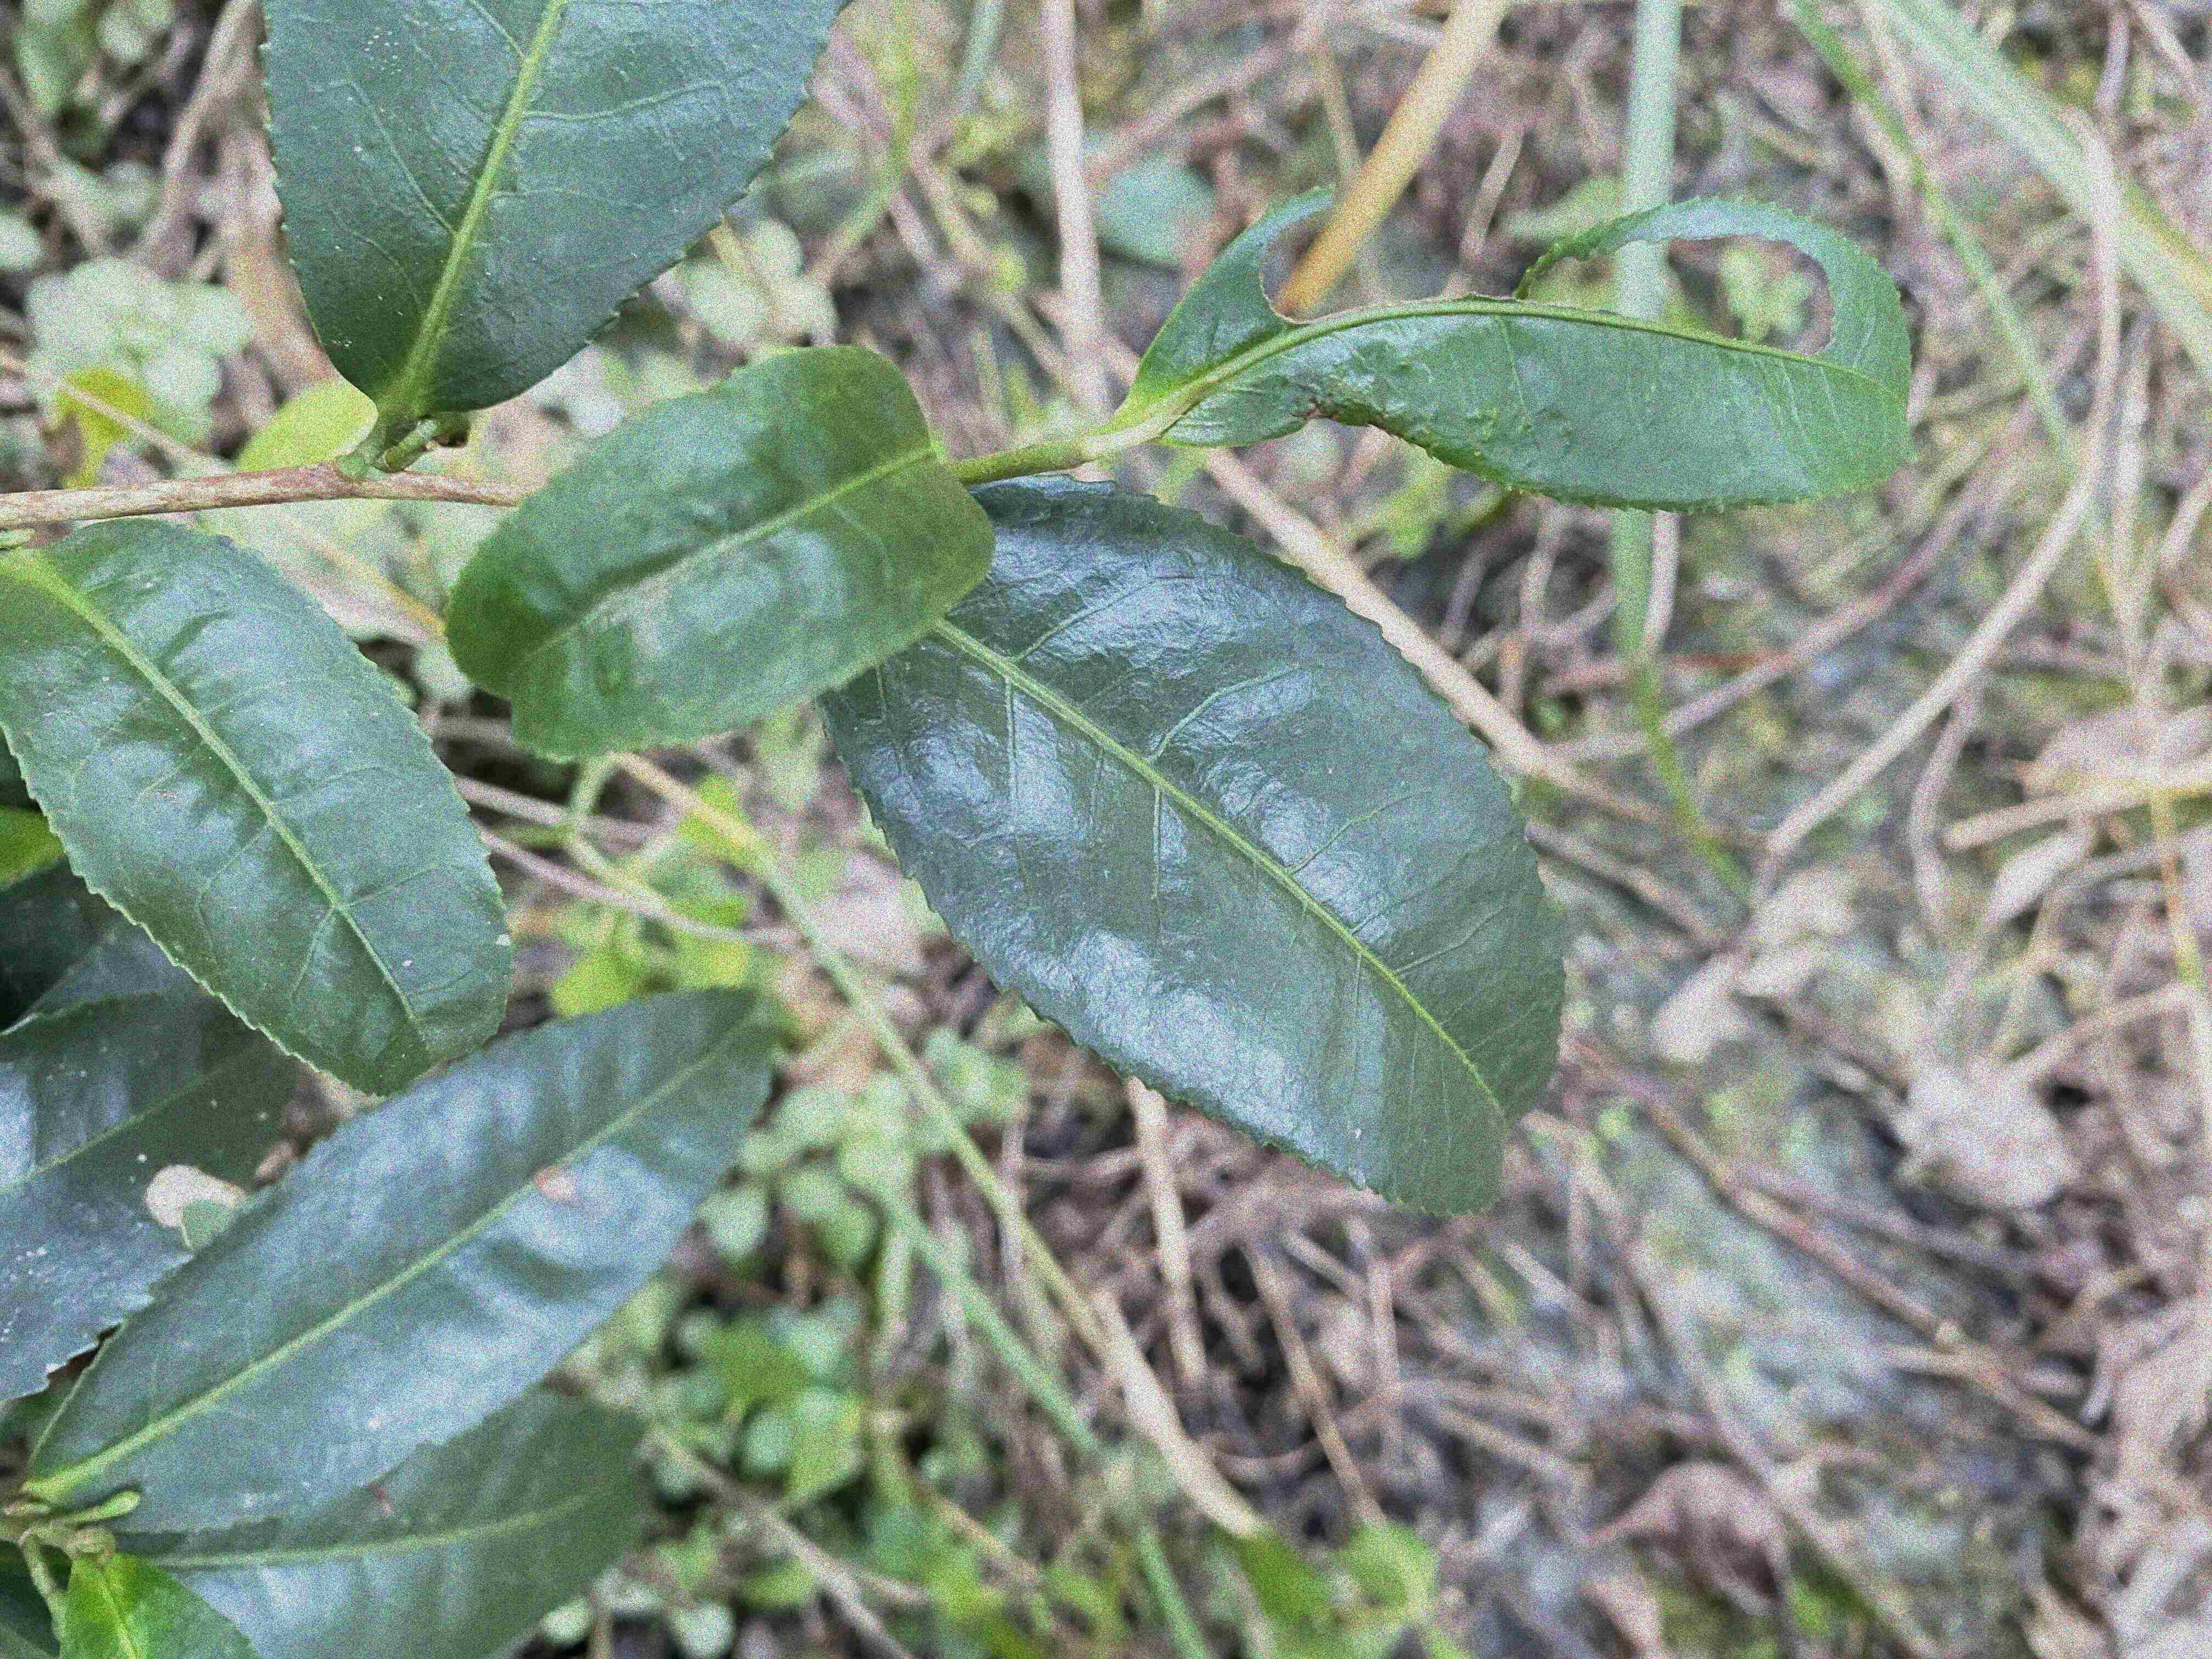chihuo_high: (1125, 178, 1919, 514)
tanju_low: (24, 992, 770, 1535)
